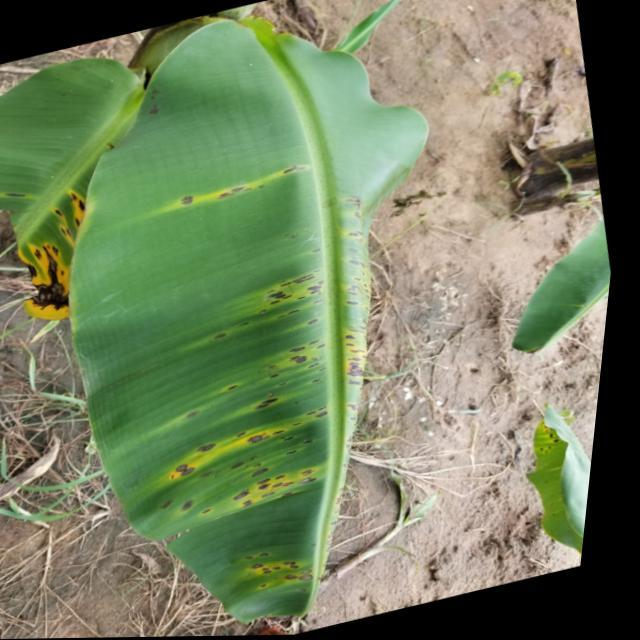Early_rust: (135, 233, 412, 613), (0, 174, 96, 317), (139, 148, 319, 220), (520, 398, 577, 498)
